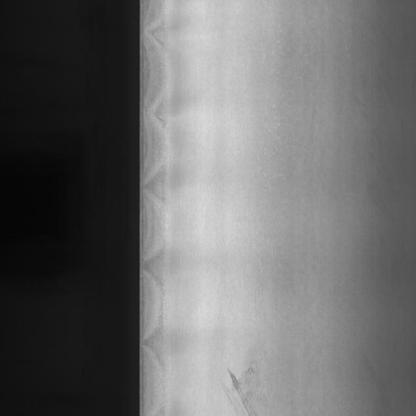water_spot: (226, 346, 260, 416)
